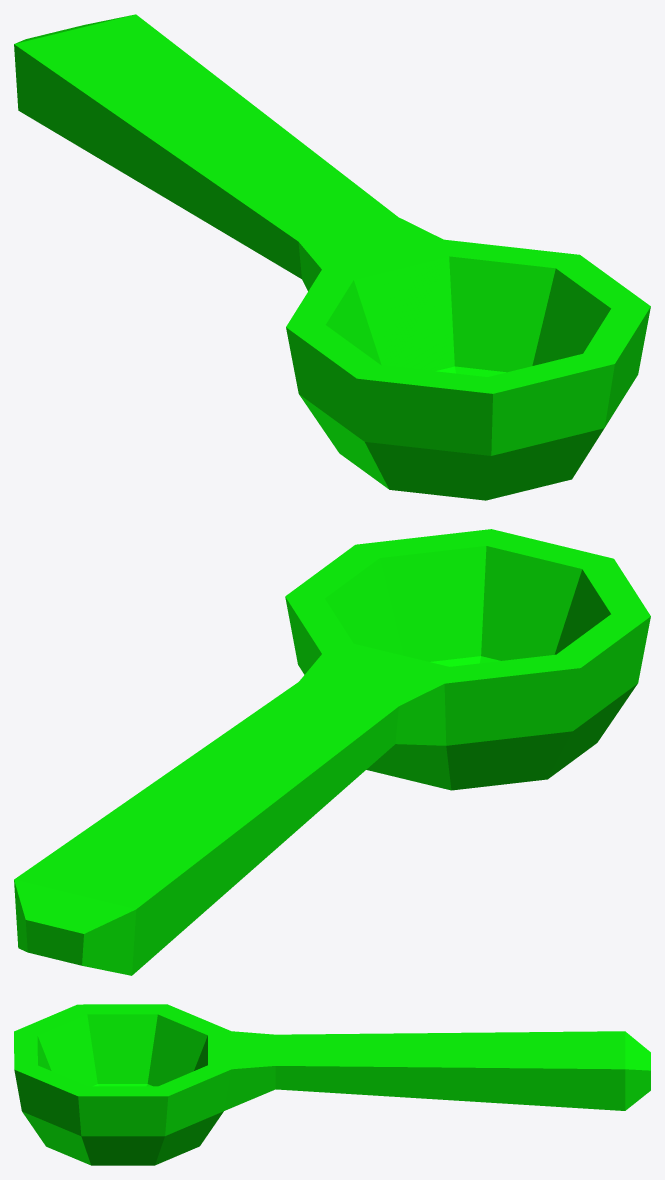
File: SM_Spoon_Wooden_Small_Round_Fantasy.fbx
3 views of the same model, one above another, from view 1: azimuth 30°, elevation 25°; view 2: azimuth 150°, elevation 25°; view 3: azimuth 270°, elevation 25° (orthographic). The views are drawn at different scales.
Parts seen in each view (by area): view 1: spoon-wooden-small-round-fantasy; view 2: spoon-wooden-small-round-fantasy; view 3: spoon-wooden-small-round-fantasy.
Part boxes in pixels (left/top/right/bottom): spoon-wooden-small-round-fantasy: left=14, top=14, right=650, bottom=500; spoon-wooden-small-round-fantasy: left=14, top=529, right=650, bottom=975; spoon-wooden-small-round-fantasy: left=14, top=1004, right=650, bottom=1165.
Size of the model in its own units: 0.0523 by 0.0275 by 0.1528.
